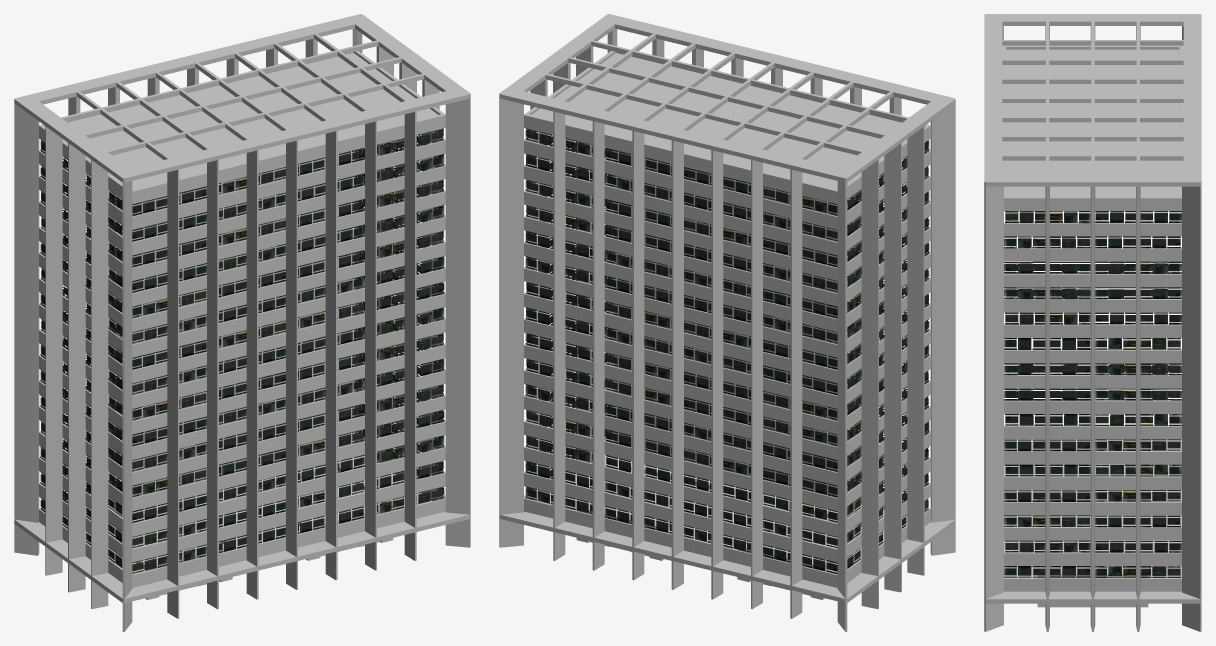
3 views of the same model, side by side, from view 1: azimuth 30°, elevation 25°; view 2: azimuth 150°, elevation 25°; view 3: azimuth 270°, elevation 25° (orthographic).
Parts seen in each view (by area): view 1: BC-005; view 2: BC-005; view 3: BC-005.
Boxes of the visible parts, x1,y1,x2,y2 form: BC-005: (14, 14, 470, 631); BC-005: (499, 14, 955, 631); BC-005: (984, 14, 1201, 631).
Size of what is drawn, in the model's own units: 44 by 54.8 by 24.
